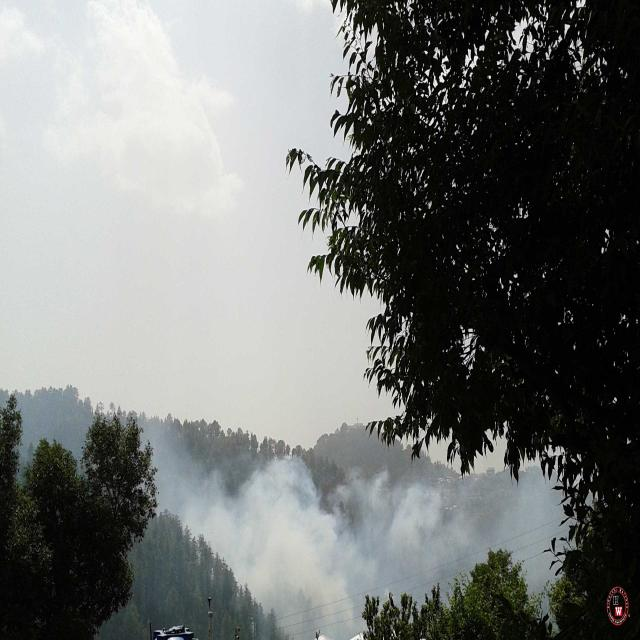Smoke: (130, 442, 576, 614)
